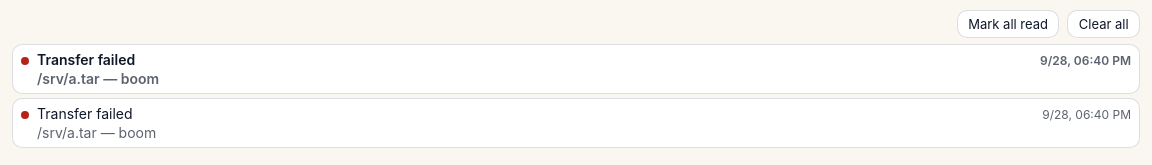
Test: NotificationCenter（铃铛 + 面板） › 全部已读：unread>0 才可用，发 notify_mark_read(id=null) 并清零
Step 1. Click the button with test id "notify-mark-all" → (1008, 24), box [957,10,1059,38]
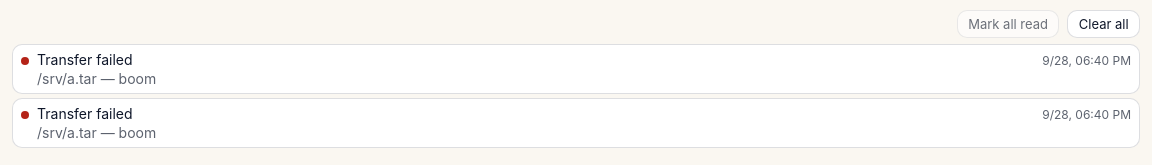
Now the button with test id "notify-mark-all" is disabled, box [957,10,1059,38]
